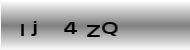4: (62, 20, 78, 35)
Q: (101, 21, 119, 36)
Z: (84, 23, 100, 38)
j: (29, 18, 37, 37)
l: (19, 22, 25, 37)
